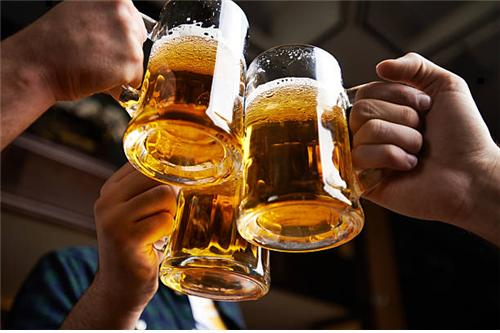alcohol: (242, 49, 366, 256), (123, 3, 242, 183), (159, 186, 274, 304)
